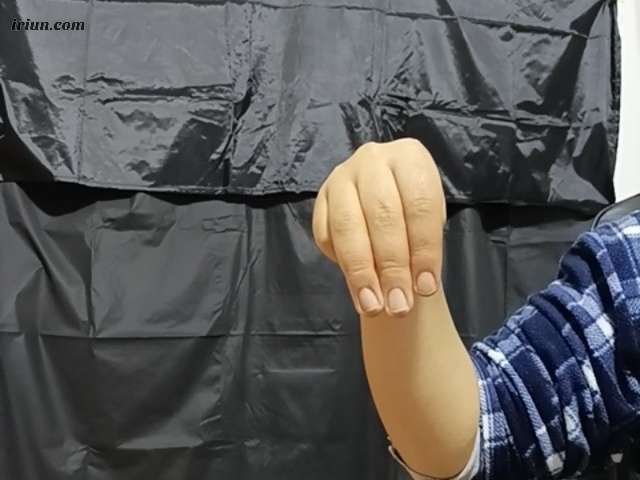M: (312, 130, 455, 316)
